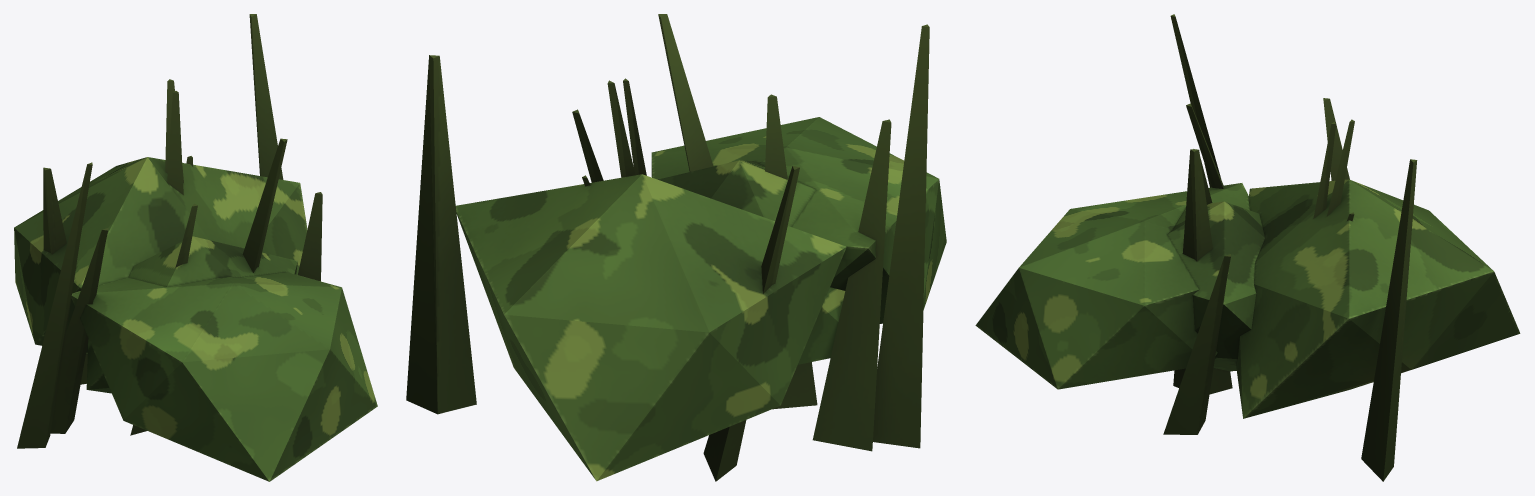
File: Maleza.glb
3 views of the same model, side by side, from view 1: azimuth 30°, elevation 25°; view 2: azimuth 150°, elevation 25°; view 3: azimuth 270°, elevation 25° (orthographic). The views are drawn at different scales.
Parts seen in each view (by area): view 1: Maleza; view 2: Maleza; view 3: Maleza.
Part boxes in pixels (x1,y1,x2,y2): Maleza: [14, 14, 377, 481]; Maleza: [406, 14, 946, 481]; Maleza: [975, 14, 1520, 481].
Size of the model in its own units: 1.37 by 1.13 by 1.81.
Materials: 1 (1 with a texture image).
